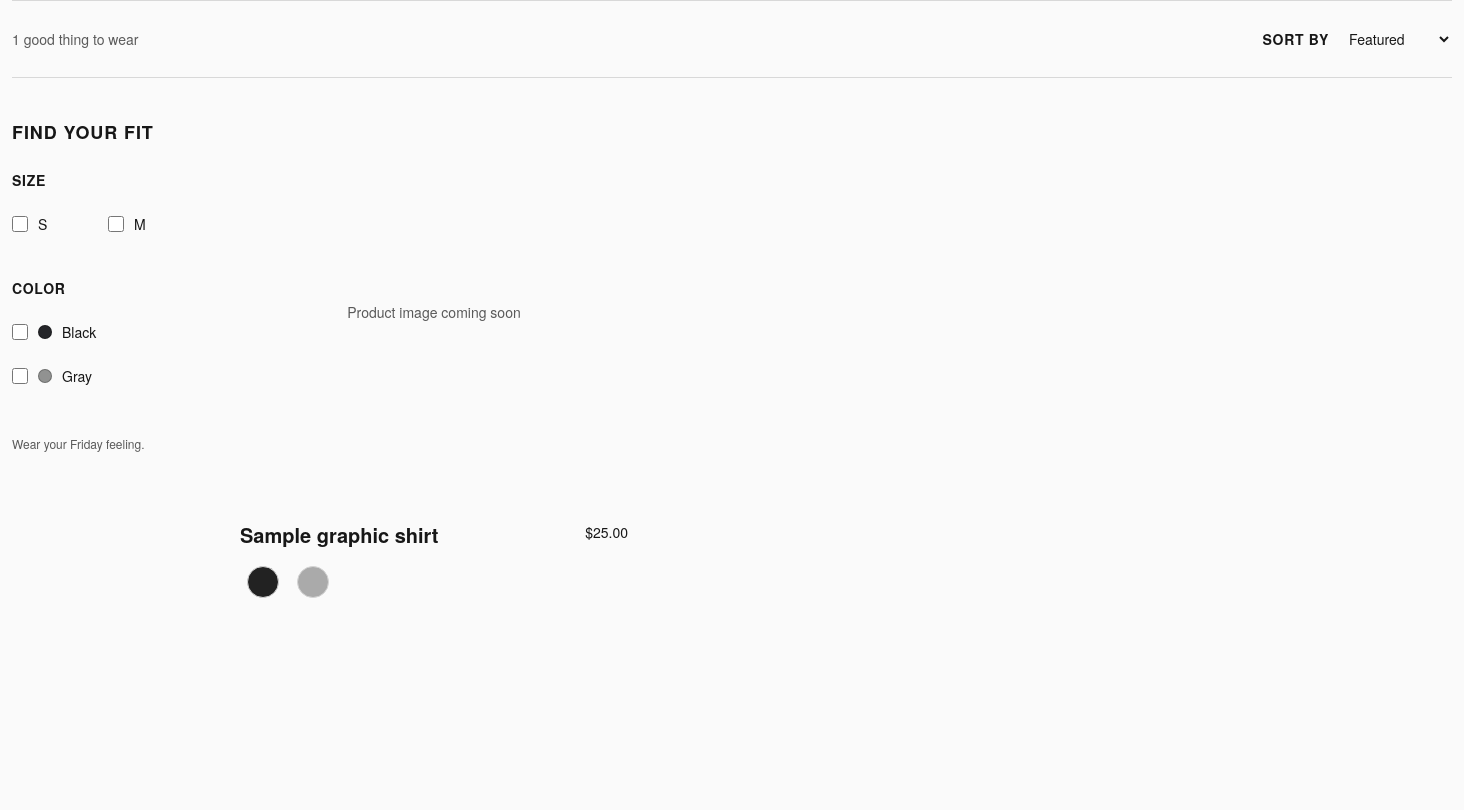
ProductList › keeps featured order and explains unavailable popularity instead of inventing best sellers
The image size is (1464, 810).
Select "Most Popular" in the dropdown labelled "Sort by": (1394, 39) 1337,17 -> 1452,61
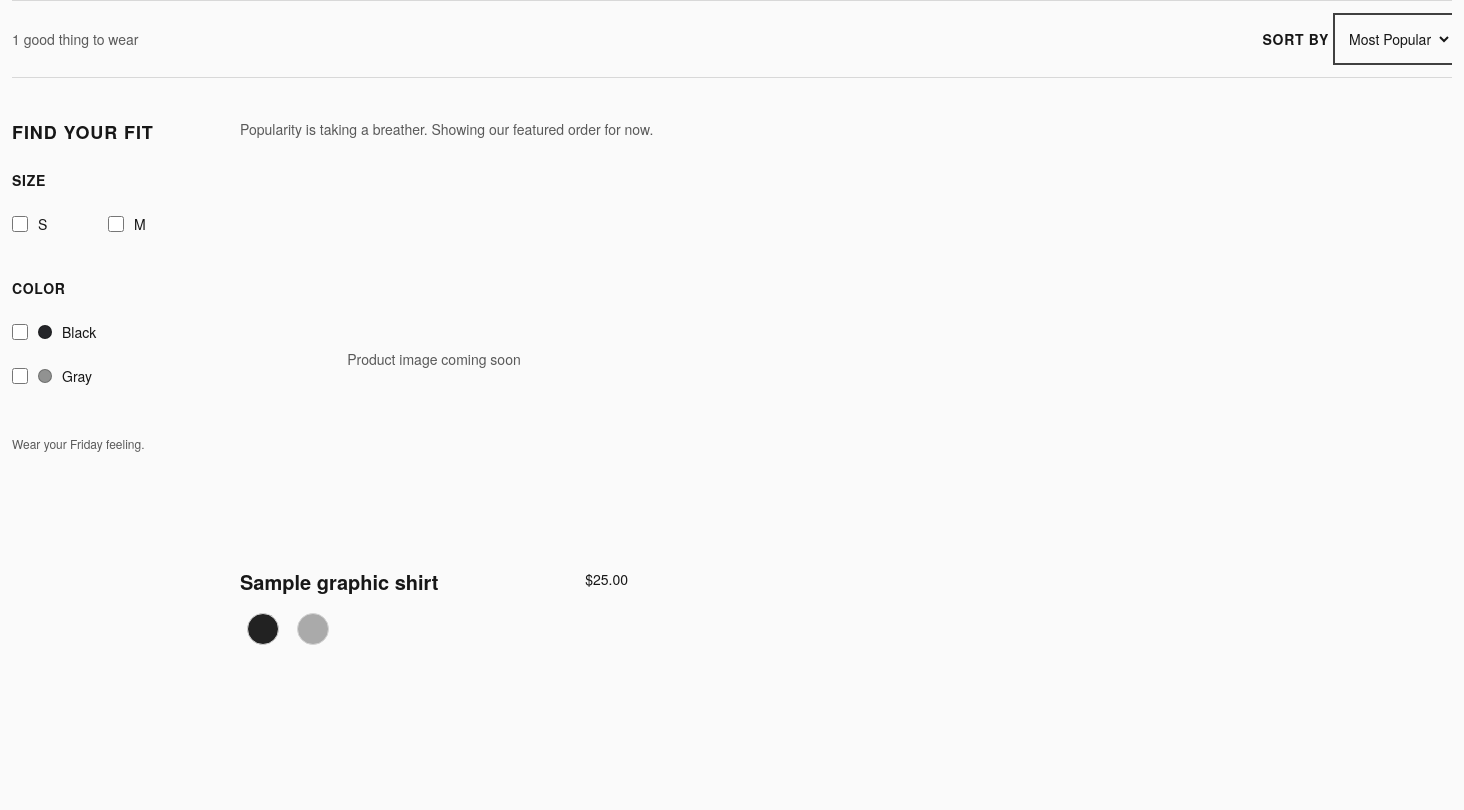
Expected: the heading reads "Sample graphic shirt", 240,567 -> 438,596
Expected: the message shows "Showing our featured order for now", 240,119 -> 653,139
